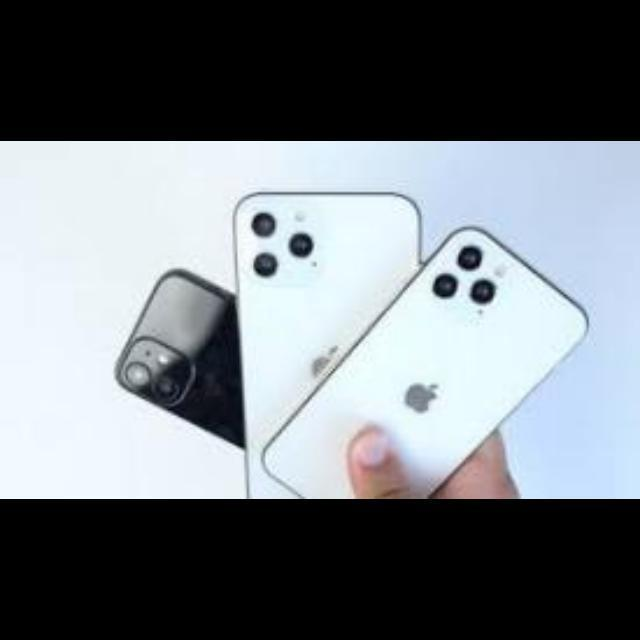phone: (232, 183, 430, 499), (106, 263, 244, 485)
